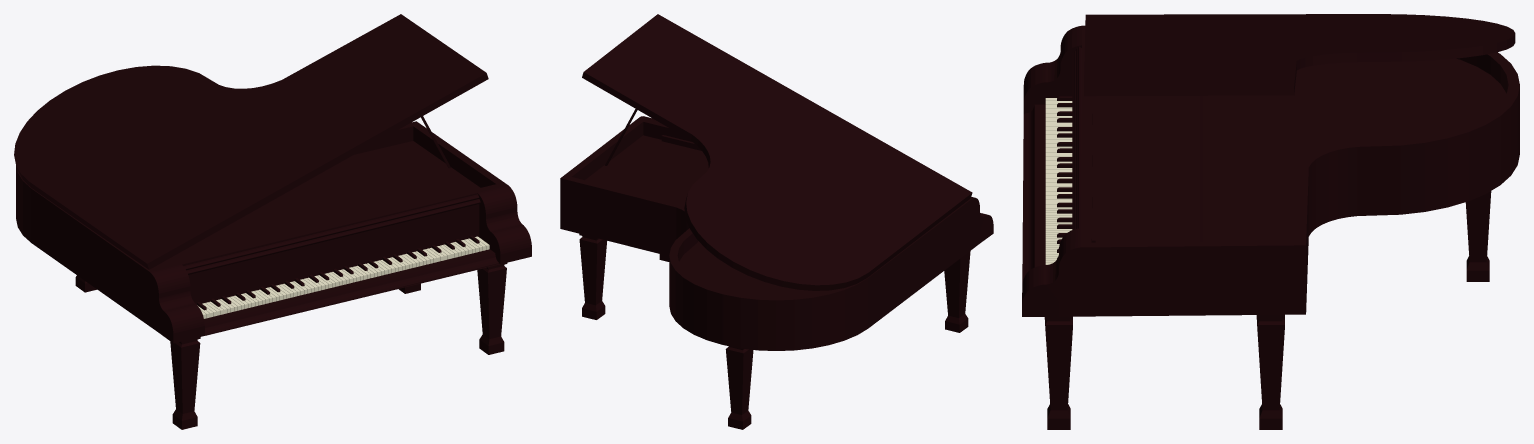
The model's file is piano.glb.
3 views of the same model, side by side, from view 1: azimuth 30°, elevation 25°; view 2: azimuth 150°, elevation 25°; view 3: azimuth 270°, elevation 25° (orthographic). The views are drawn at different scales.
Parts seen in each view (by area): view 1: Plane, 立方体.025, 立方体.026, 立方体, NURBSパス.001, NURBSパス; view 2: Plane, 立方体.026; view 3: Plane, 立方体.026, 立方体, NURBSパス, NURBSパス.001, 立方体.025.
Part boxes in pixels (bbox=[...]): Plane: bbox=[14, 14, 531, 343]; 立方体.025: bbox=[188, 204, 479, 304]; 立方体.026: bbox=[75, 263, 507, 429]; 立方体: bbox=[197, 236, 489, 318]; NURBSパス.001: bbox=[186, 199, 480, 274]; NURBSパス: bbox=[183, 194, 479, 270]; Plane: bbox=[560, 14, 993, 350]; 立方体.026: bbox=[579, 233, 970, 429]; Plane: bbox=[1022, 14, 1519, 316]; 立方体.026: bbox=[1044, 191, 1491, 429]; 立方体: bbox=[1045, 98, 1072, 264]; NURBSパス: bbox=[1076, 46, 1081, 228]; NURBSパス.001: bbox=[1072, 51, 1075, 229]; 立方体.025: bbox=[1092, 96, 1095, 242].
Size of the model in its own units: 2.58 by 1.83 by 2.41.
